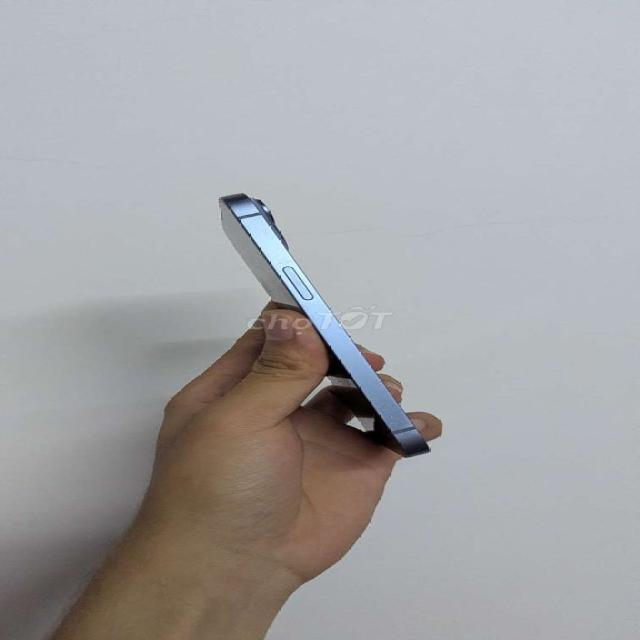gen_14: (214, 186, 436, 459)
